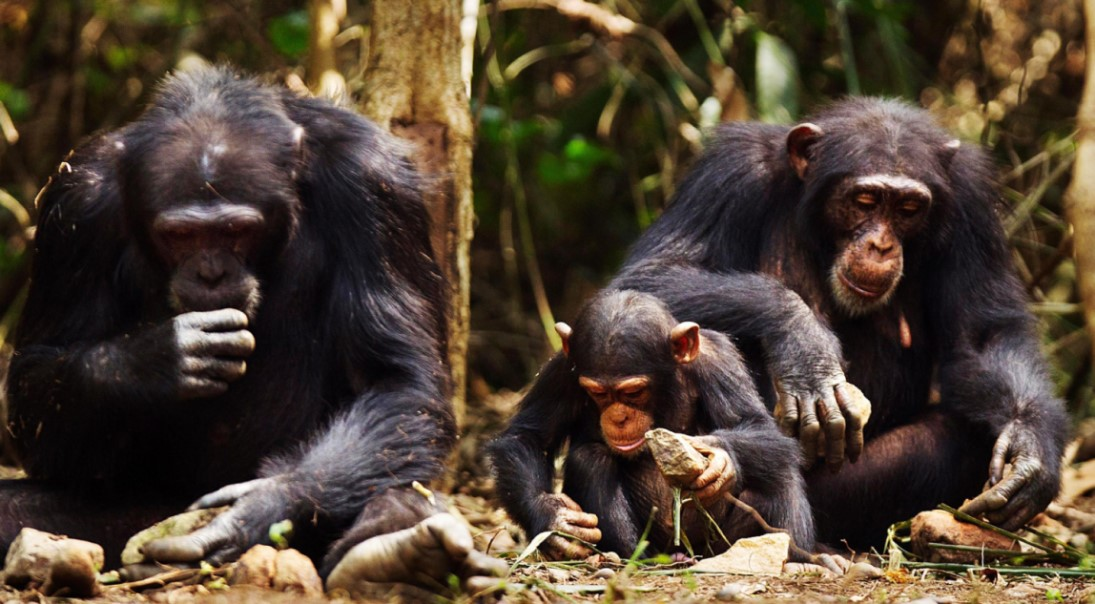Chimpanzee: (13, 73, 456, 565), (632, 106, 1027, 528), (516, 308, 793, 555)
